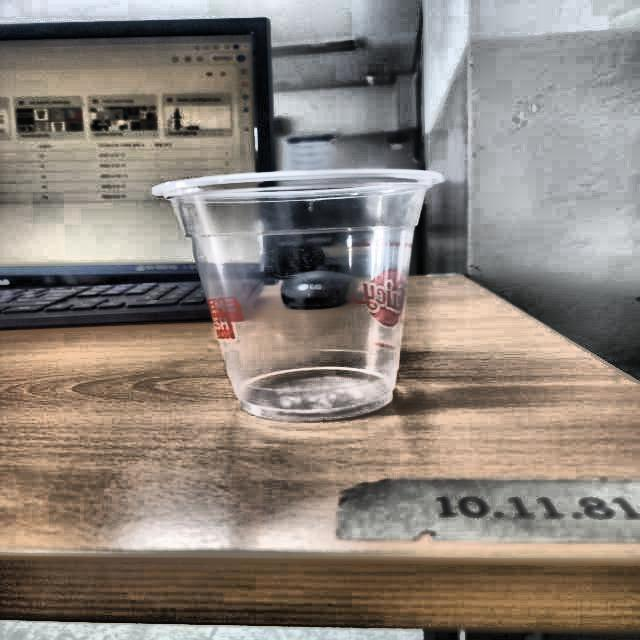plastic cup: (150, 167, 452, 422)
